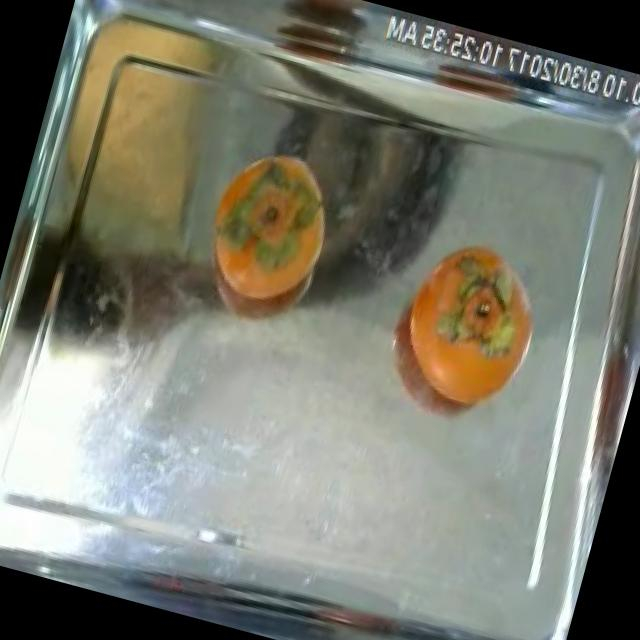Fruit: (370, 216, 566, 444), (70, 34, 244, 262), (180, 125, 354, 330)
